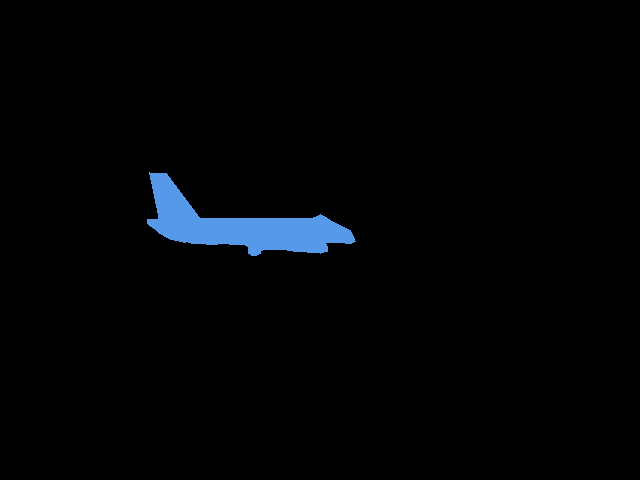Airplane: (147, 172, 356, 256)
